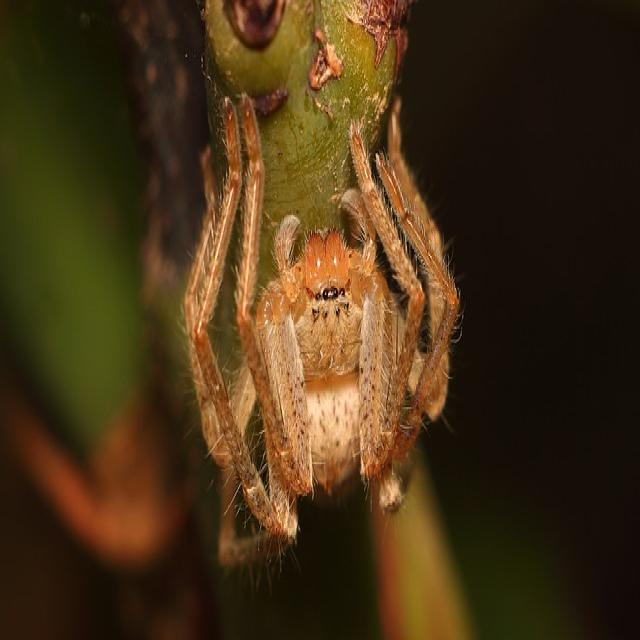spyder: (185, 93, 459, 563)
